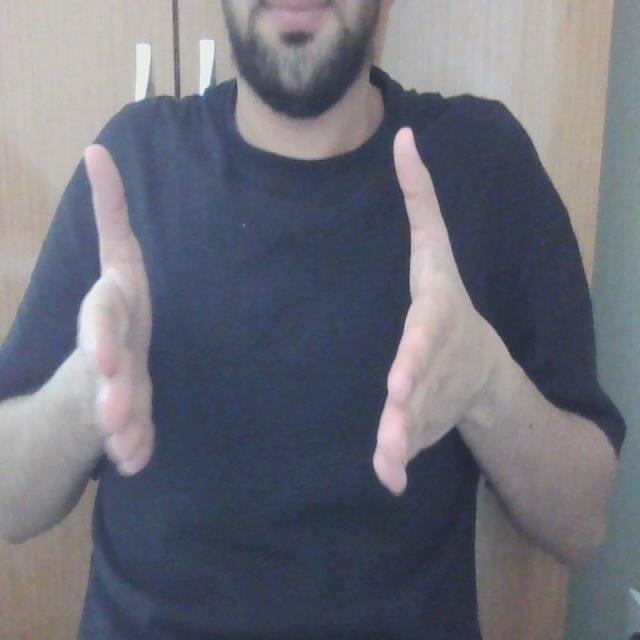Nasil: (76, 119, 502, 559)
